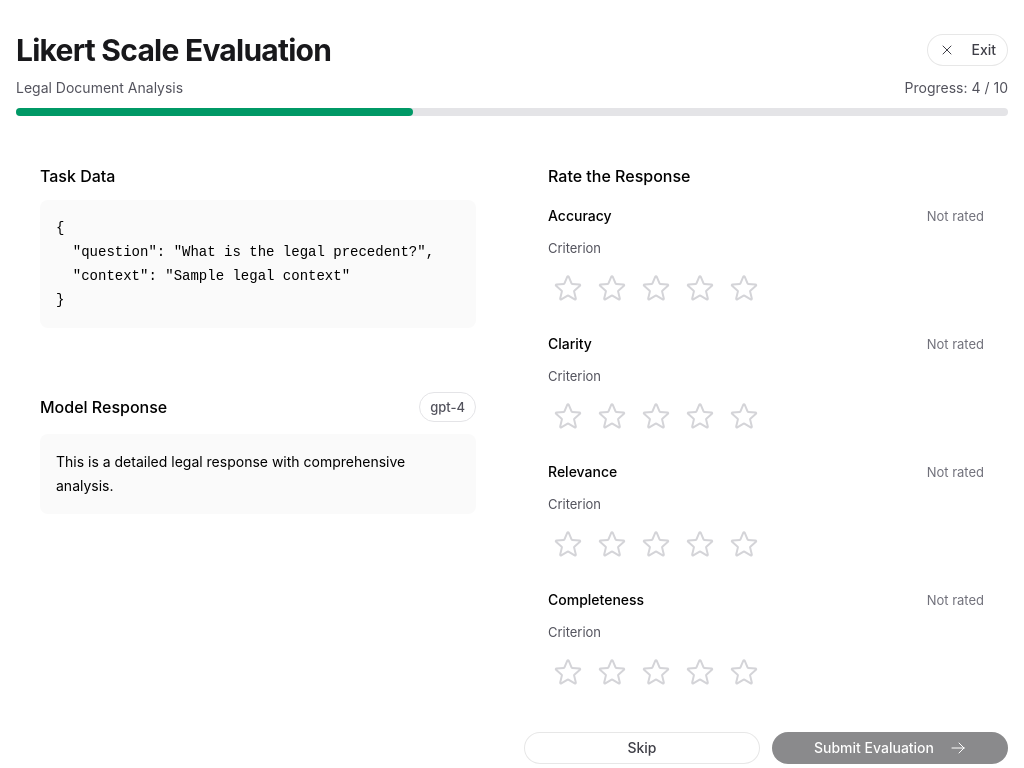
it: LikertEvaluation › star rating interaction › allows changing a rating
Expected: the text "Accuracy" is shown, [548,204,612,228]
Note: First rate as 3
Click the button named "Rate 3 stars" below "Accuracy": [656, 288] box [636,268,676,308]
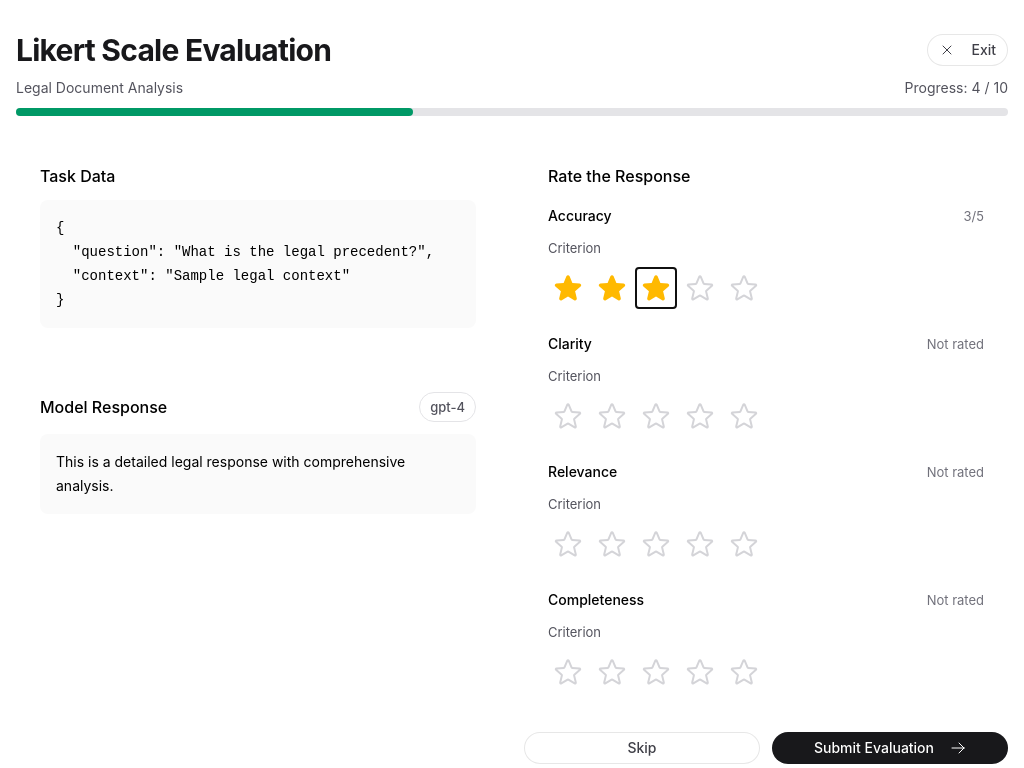
Now the text "3/5" is shown, box [964,204,984,228]
Note: Then change to 5
Click the button named "Rate 5 stars" below "Accuracy": [744, 288] box [724,268,764,308]
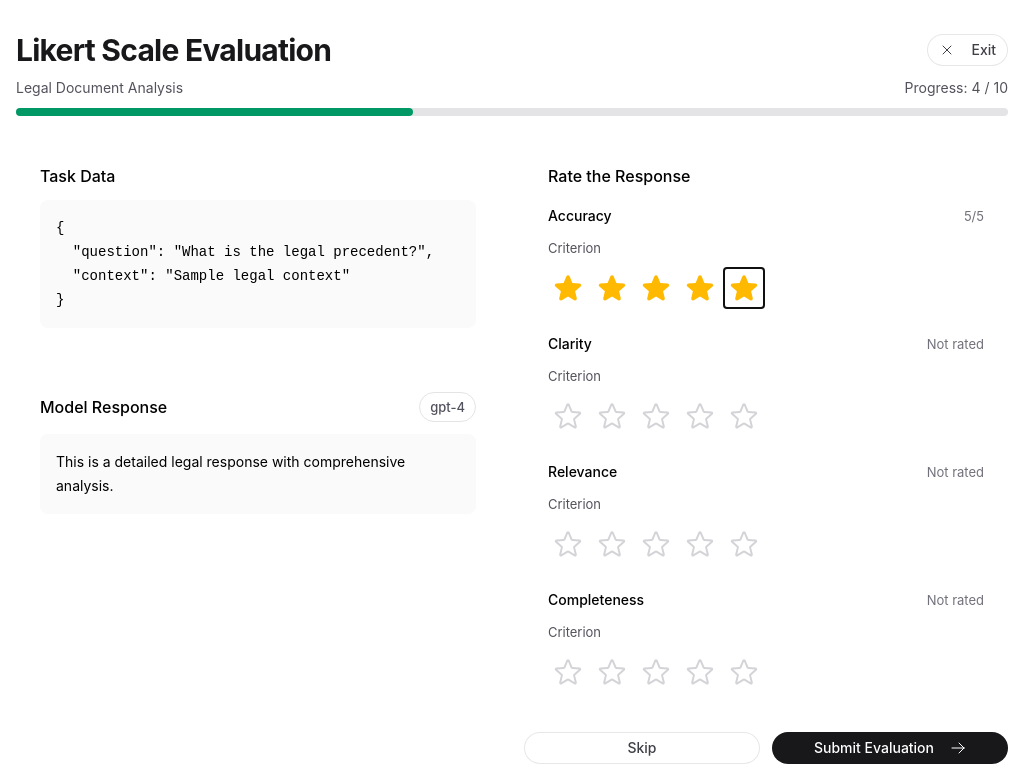
Now the text "5/5" is shown, box [964,204,984,228]
